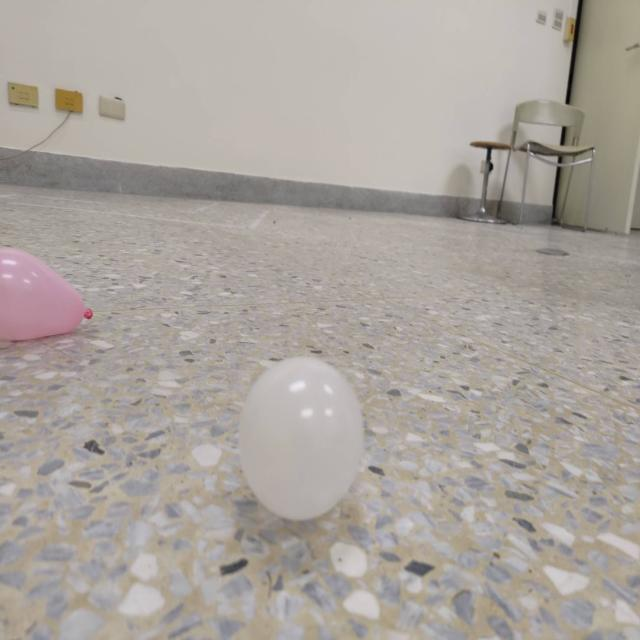other: (236, 353, 365, 522), (0, 247, 92, 342)
